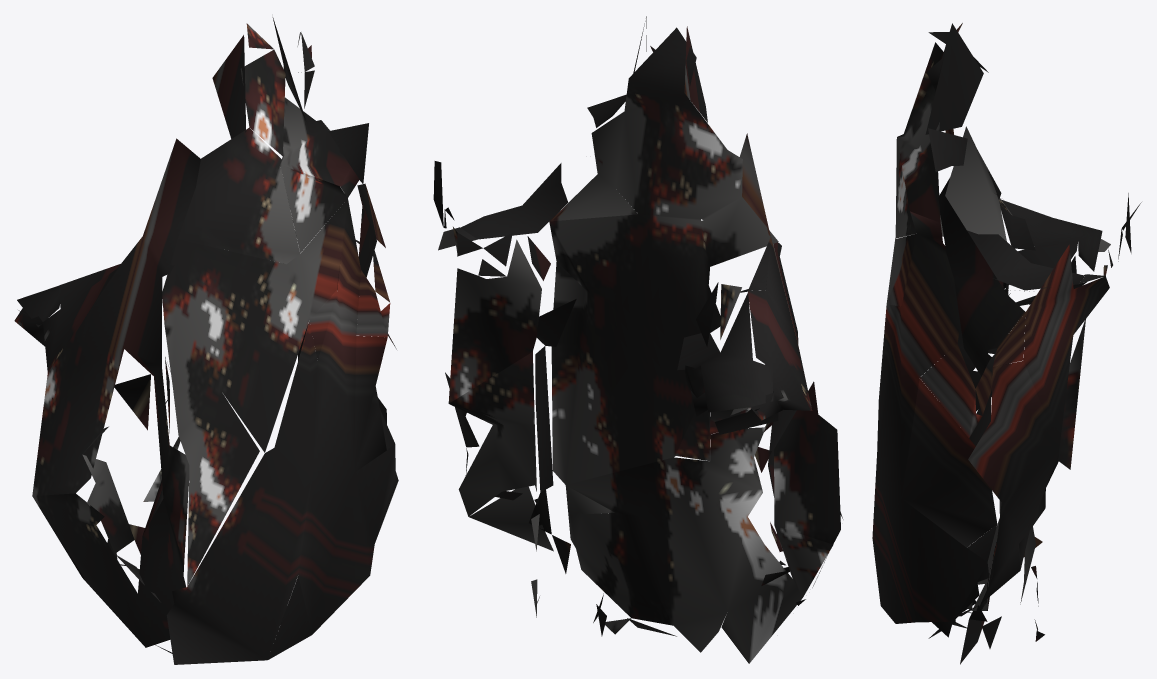
3 views of the same model, side by side, from view 1: azimuth 30°, elevation 25°; view 2: azimuth 150°, elevation 25°; view 3: azimuth 270°, elevation 25° (orthographic).
Parts seen in each view (by area): view 1: body.002; view 2: body.002; view 3: body.002.
Boxes of the visible parts, x1=… form: body.002: x1=14, y1=17, x2=398, y2=664; body.002: x1=433, y1=16, x2=843, y2=663; body.002: x1=872, y1=23, x2=1141, y2=664.
Bounding box in the file's own units: 1.22 × 1.96 × 0.7768.
1 material, 1 textured.
